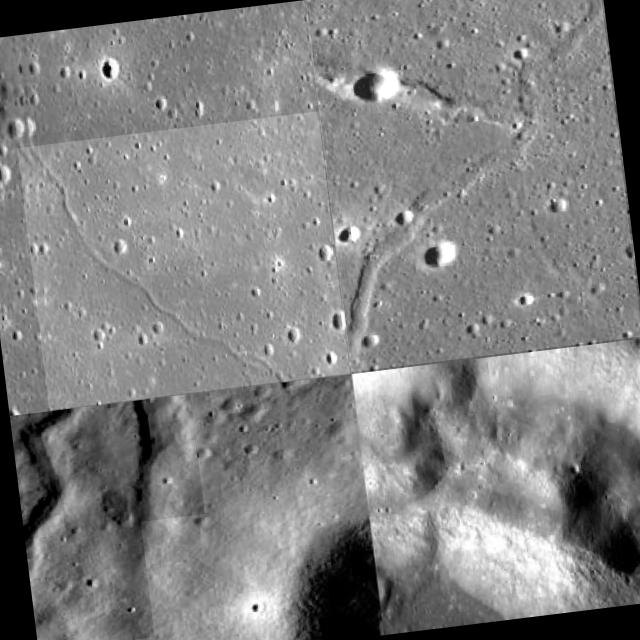rille: (304, 0, 640, 371), (17, 111, 350, 409), (9, 401, 154, 640), (94, 394, 204, 526)
